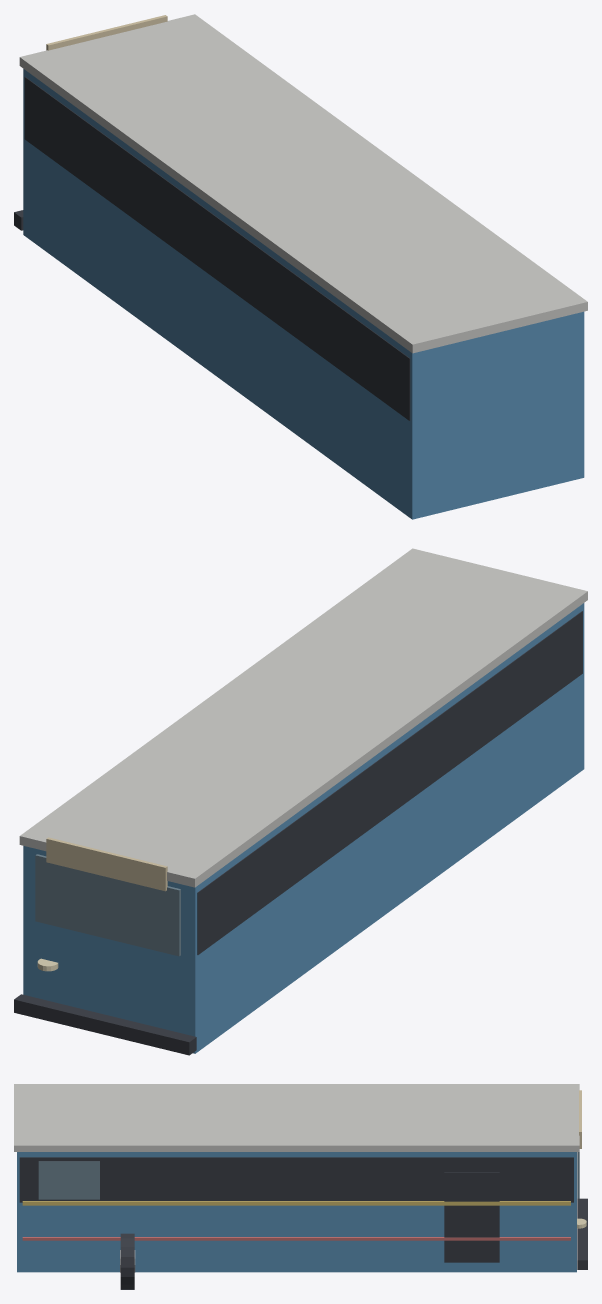
The model's file is bus.glb.
3 renders of one model, top to bottom at view 1: azimuth 30°, elevation 25°; view 2: azimuth 150°, elevation 25°; view 3: azimuth 270°, elevation 25°, orthographic. The views are drawn at different scales.
Visible parts, largest first — view 1: bus; view 2: bus; view 3: bus.
Boxes of the visible parts, box(x1,y1,x2,y2) form: bus: box(14, 14, 587, 519); bus: box(14, 548, 587, 1055); bus: box(14, 1084, 587, 1289).
Bounding box in the file's own units: 2.94 × 2.78 × 9.84.
